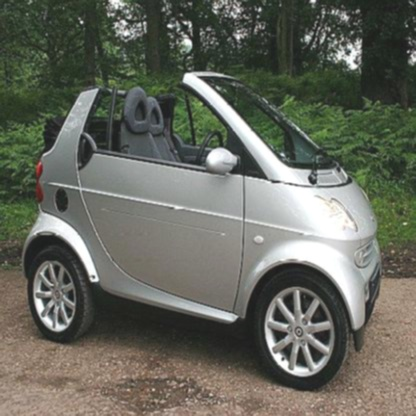Vehicle: (20, 67, 382, 396)
